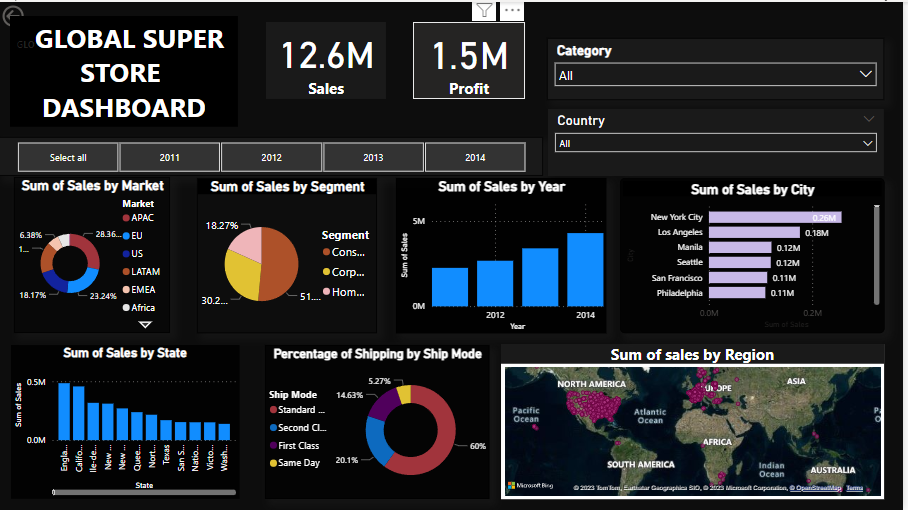

Layout of this report page (visuals, bound fields, positions):
{"tool":"powerbi","page":{"name":"Page 1","canvas":[1280,720],"ordinal":0},"visuals":[{"type":"card","fields":{"Values":["Sum(Orders.Sales)"]},"box":[378.5,28.6,169.6,108.9],"z":0},{"type":"card","fields":{"Values":["Sum(Orders.Profit)"]},"box":[587.3,28.6,158.9,108.9],"z":1000},{"type":"actionButton","box":[0,0,100,40],"z":2000},{"type":"slicer","fields":{"Values":["Orders.Order Date.Variation.Date Hierarchy.Year"]},"box":[0,191,771.2,55.3],"z":3000},{"type":"slicer","fields":{"Values":["Orders.Category"]},"box":[777.2,50.4,477.6,87.5],"z":4000},{"type":"slicer","fields":{"Values":["Orders.Country"]},"box":[778.7,151.3,476.1,94.9],"z":5000},{"type":"map","fields":{"Category":["Orders.Sales"]},"box":[711.9,485,542.9,219.5],"z":6000},{"type":"pieChart","fields":{"Category":["Orders.Segment"],"Y":["Sum(Orders.Sales)"]},"box":[280.3,249.9,255.3,219.6],"z":7000},{"type":"columnChart","fields":{"Y":["Sum(Orders.Sales)"],"Category":["Orders.State"]},"box":[17.1,486.6,323.9,217.6],"z":8000},{"type":"donutChart","fields":{"Category":["Orders.Market"],"Y":["Sum(Orders.Sales)"]},"box":[21.4,248.1,221.4,221.4],"z":9000},{"type":"barChart","fields":{"Category":["Orders.City"],"Y":["Sum(Orders.Sales)"]},"box":[880.1,249.9,374.9,219.6],"z":10000},{"type":"donutChart","title":"Percentage of Shipping by Ship Mode","fields":{"Category":["Orders.Ship Mode"],"Y":["CountNonNull(Orders.Order ID)"]},"box":[376.7,485.6,317.8,217.8],"z":11000},{"type":"textbox","box":[16.1,19.6,323.1,157.1],"z":12000},{"type":"columnChart","fields":{"Category":["Orders.Order Date.Variation.Date Hierarchy.Year"],"Y":["Sum(Orders.Sales)"]},"box":[562.3,249.9,298.1,219.6],"z":13000}]}

Visuals, with their boxes on the page's 1280x720 design canvas (x1, y1, x2, y2). These are canvas units, not pixel positions in the 908x510 screenshot, which may show the page scaled, cropped or inside an application window:
card - Sum(Orders.Sales): 378/29/548/138
card - Sum(Orders.Profit): 587/29/746/138
actionButton: 0/0/100/40
slicer - Orders.Order Date.Variation.Date Hierarchy.Year: 0/191/771/246
slicer - Orders.Category: 777/50/1255/138
slicer - Orders.Country: 779/151/1255/246
map - Orders.Sales: 712/485/1255/704
pieChart - Orders.Segment x Sum(Orders.Sales): 280/250/536/470
columnChart - Sum(Orders.Sales) x Orders.State: 17/487/341/704
donutChart - Orders.Market x Sum(Orders.Sales): 21/248/243/470
barChart - Orders.City x Sum(Orders.Sales): 880/250/1255/470
"Percentage of Shipping by Ship Mode" donutChart: 377/486/694/703
textbox: 16/20/339/177
columnChart - Orders.Order Date.Variation.Date Hierarchy.Year x Sum(Orders.Sales): 562/250/860/470
